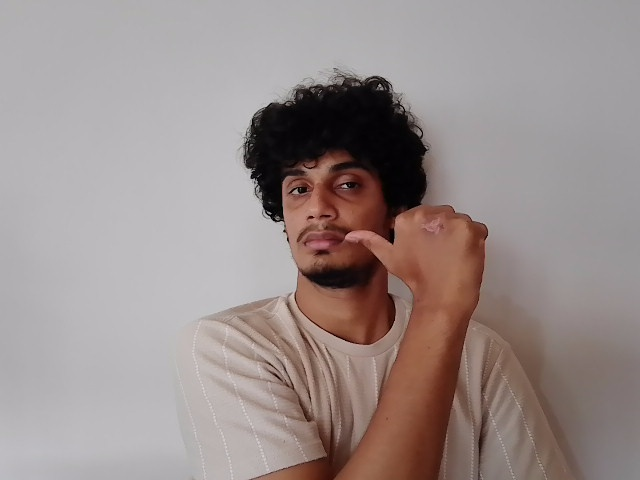drink: (286, 151, 496, 306)
